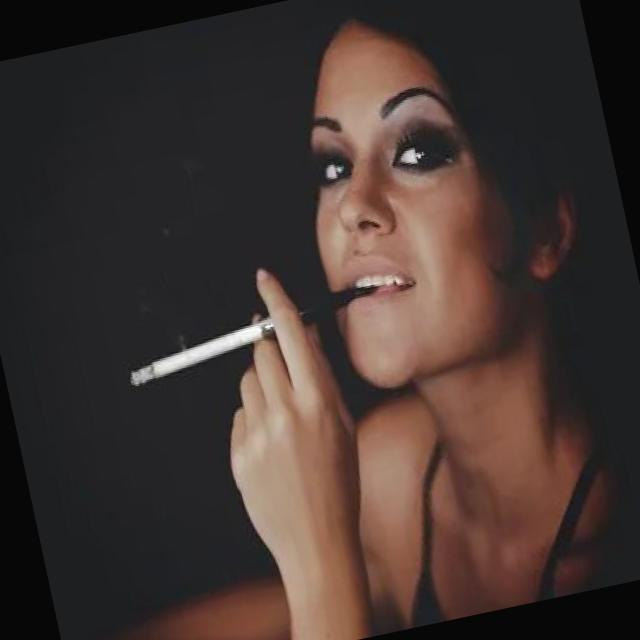smoke: (110, 259, 393, 400)
